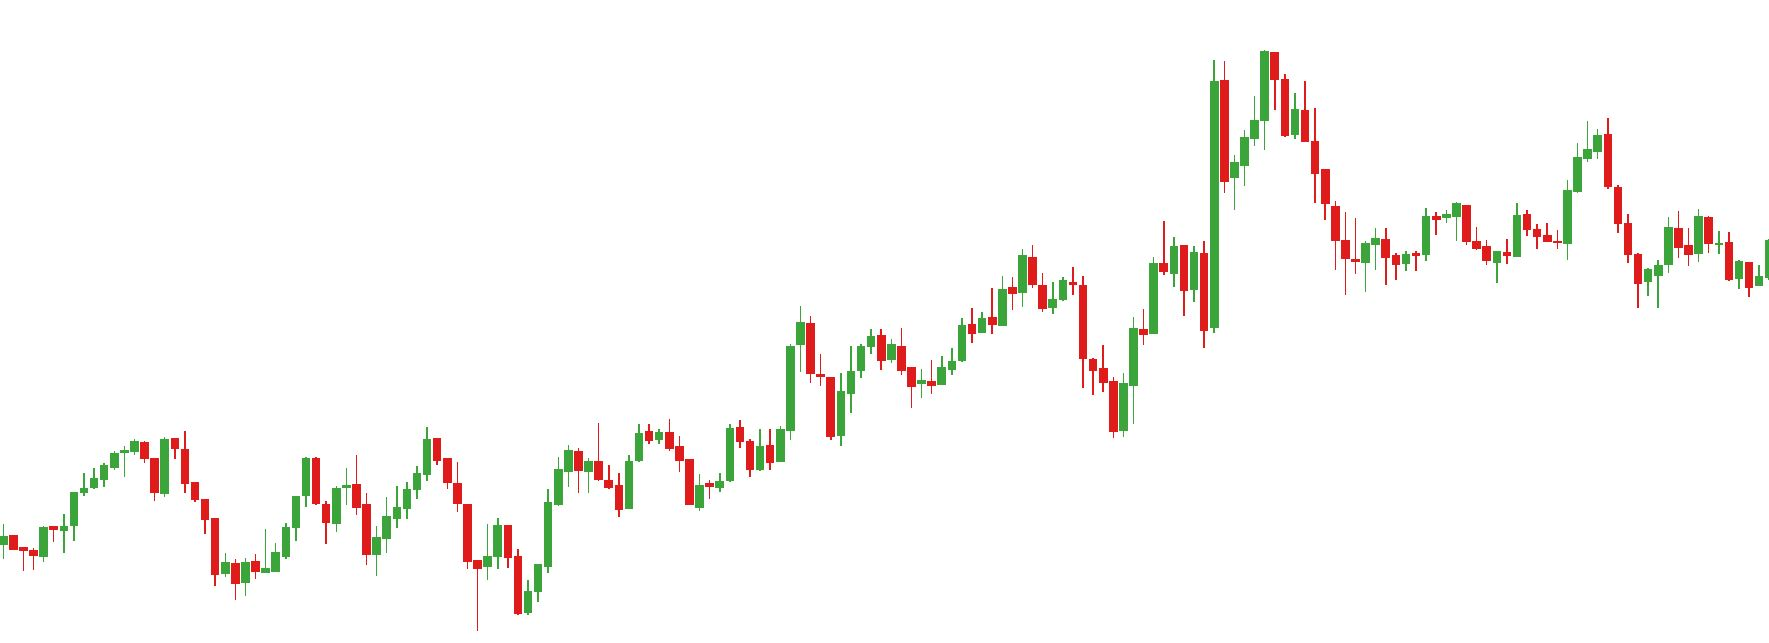buy: (230, 510, 482, 635), (905, 306, 1128, 440), (1489, 182, 1654, 308)
sell: (1220, 49, 1282, 142)
